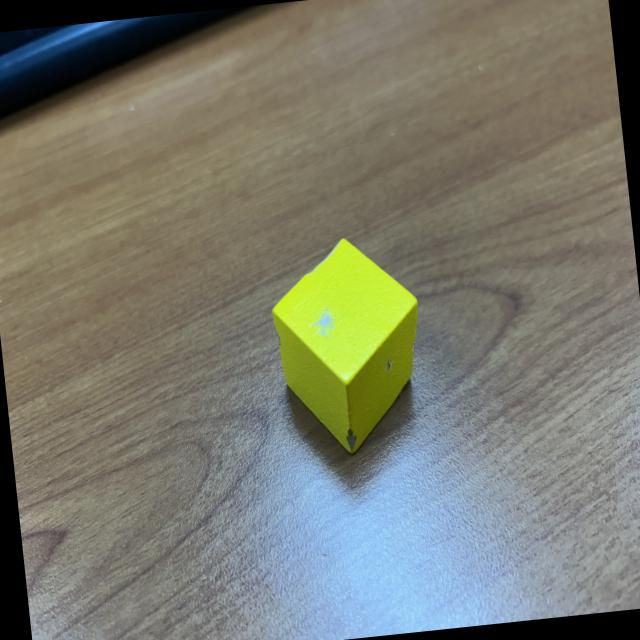broken: (264, 230, 432, 460)
